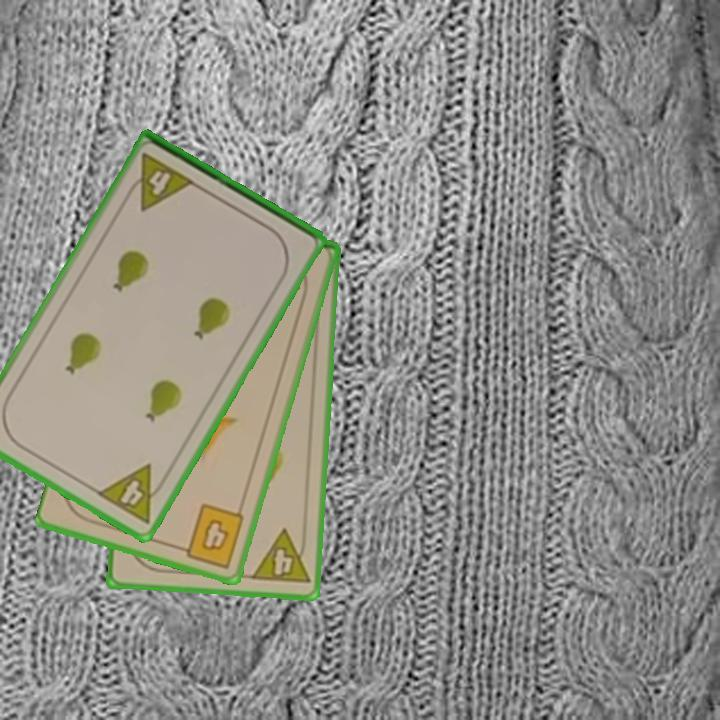4b: (173, 500, 248, 571)
4p: (93, 460, 172, 528), (121, 150, 198, 214), (247, 526, 313, 588)
